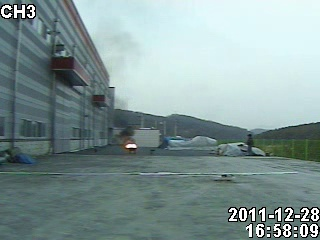fire: (122, 138, 143, 150)
smoke: (99, 9, 153, 86)
